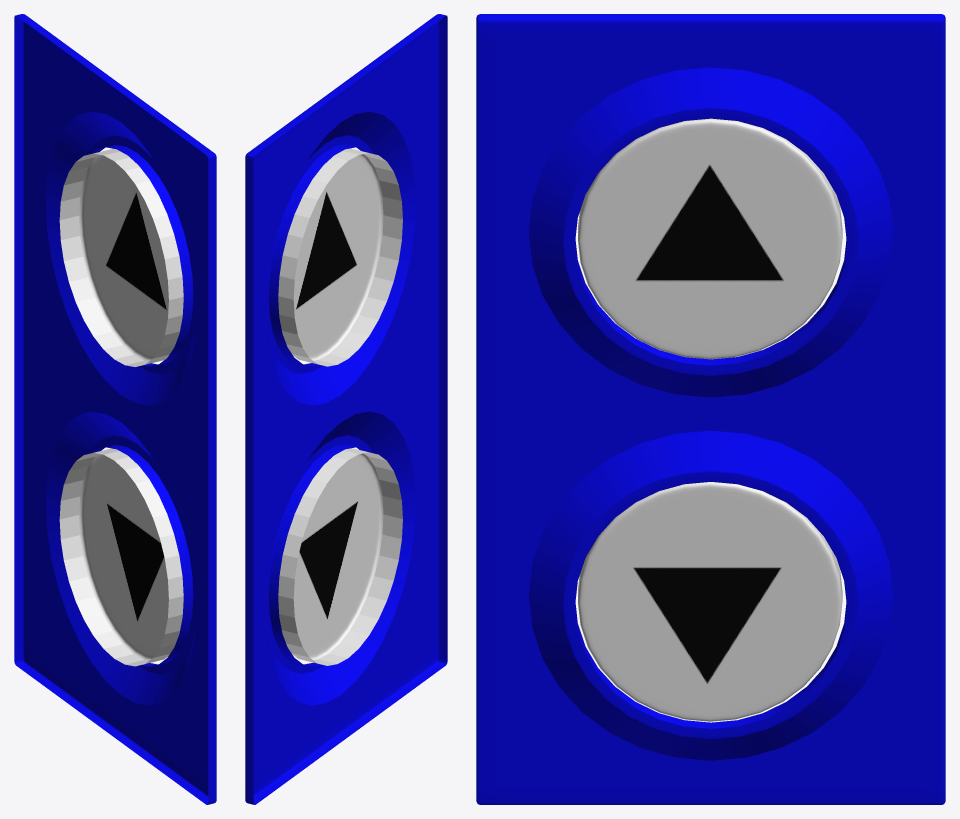
Rendered from ElevatorWallButtons.fbx.
The picture shows the model from 3 angles, left to right: view 1: azimuth 30°, elevation 25°; view 2: azimuth 150°, elevation 25°; view 3: azimuth 270°, elevation 25°; orthographic projection. The views are drawn at different scales.
Visible parts, largest first — view 1: ElevatorWallButtons_GEO; view 2: ElevatorWallButtons_GEO; view 3: ElevatorWallButtons_GEO.
Part boxes in pixels (left/top/right/bottom): ElevatorWallButtons_GEO: left=14, top=14, right=216, bottom=804; ElevatorWallButtons_GEO: left=245, top=14, right=447, bottom=804; ElevatorWallButtons_GEO: left=476, top=14, right=945, bottom=804.
Bounding box in the file's own units: 0.0178 × 0.421 × 0.2276.
